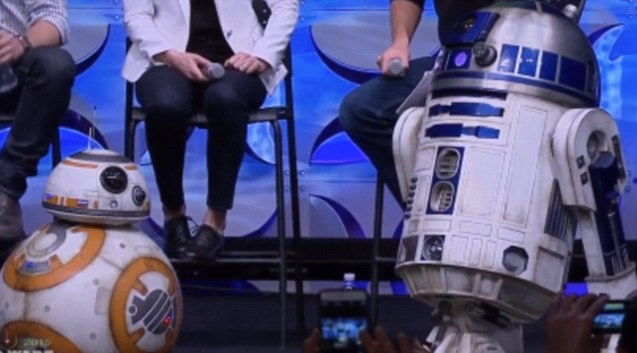bb8: (1, 149, 185, 353)
